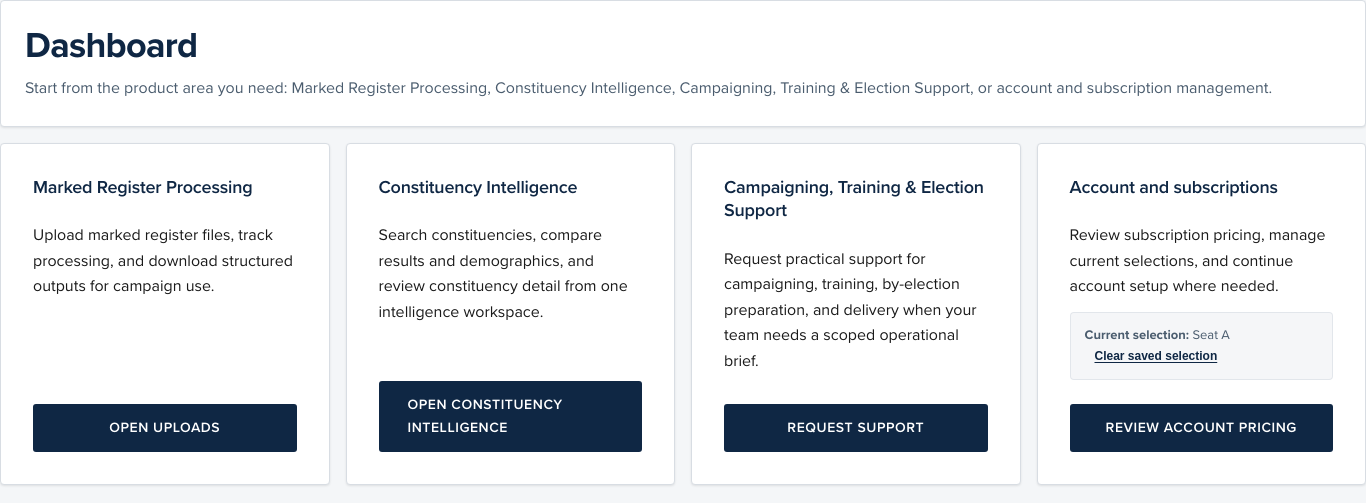
Test: Dashboard › shows stored signup context and supports review/clear actions
Expected: the text "Current selection:" is shown, [1084,327,1189,343]
Expected: the text "Seat A" is shown, [1192,327,1230,343]
Click the button "Clear saved selection" at x=1156, y=356, box [1094,349,1217,363]
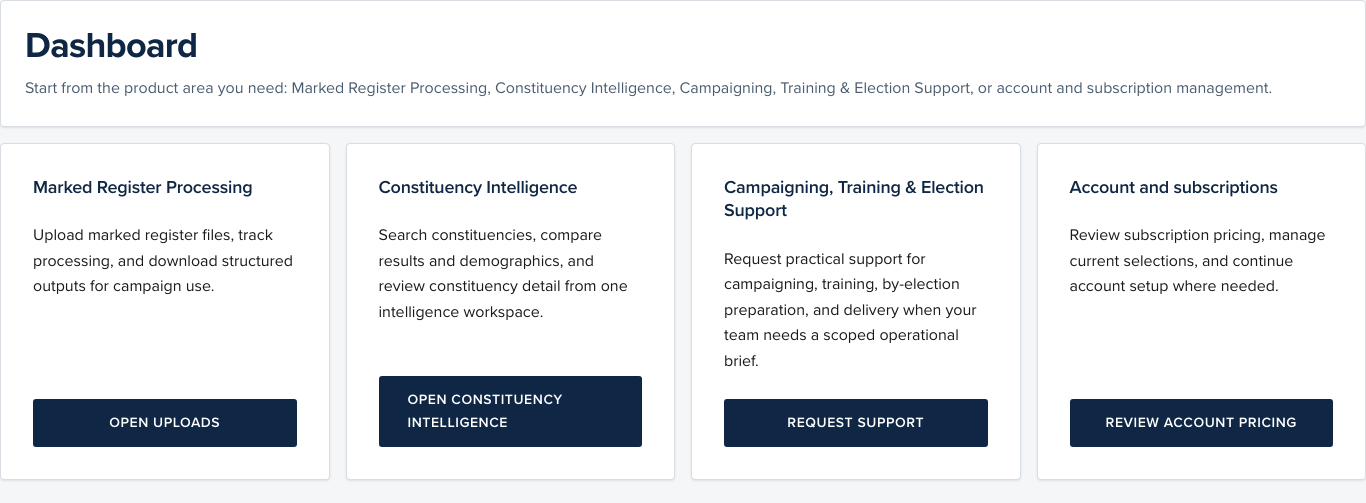
Expected: the text "Current selection:" is gone
